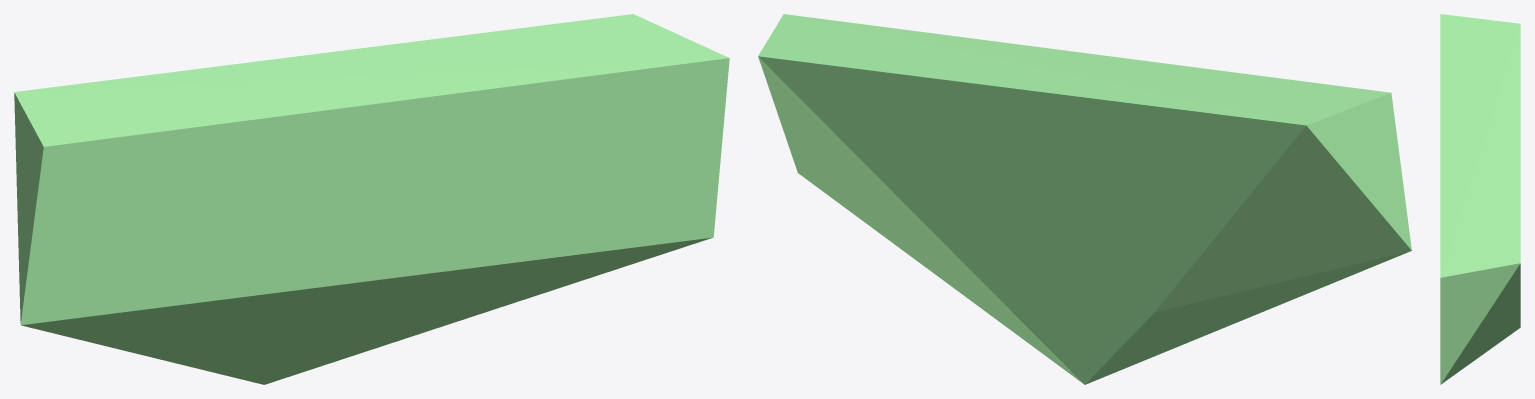
The model's file is UMIRobot_UMIRobot_link_2_convex_coll_21.dae.
3 renders of one model, left to right at view 1: azimuth 30°, elevation 25°; view 2: azimuth 150°, elevation 25°; view 3: azimuth 270°, elevation 25°, orthographic. The views are drawn at different scales.
Parts seen in each view (by area): view 1: node; view 2: node; view 3: node.
Boxes of the visible parts, x1,y1,x2,y2 form: node: (14,14,729,384); node: (758,14,1411,384); node: (1440,14,1520,384).
Size of the model in its own units: 0.062 by 0.0296 by 0.0095.
